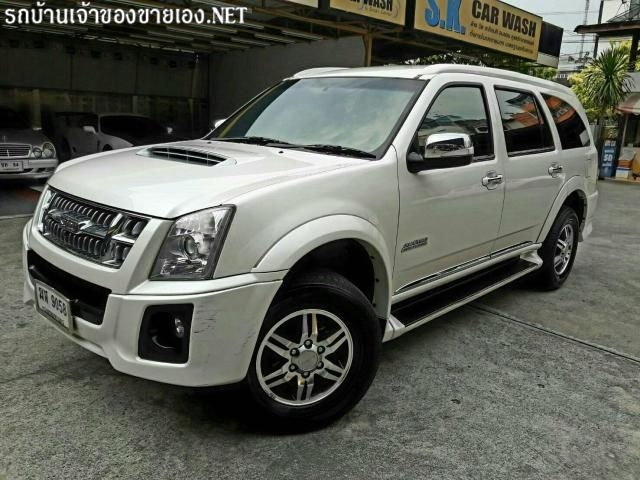pickup: (21, 61, 599, 435)
